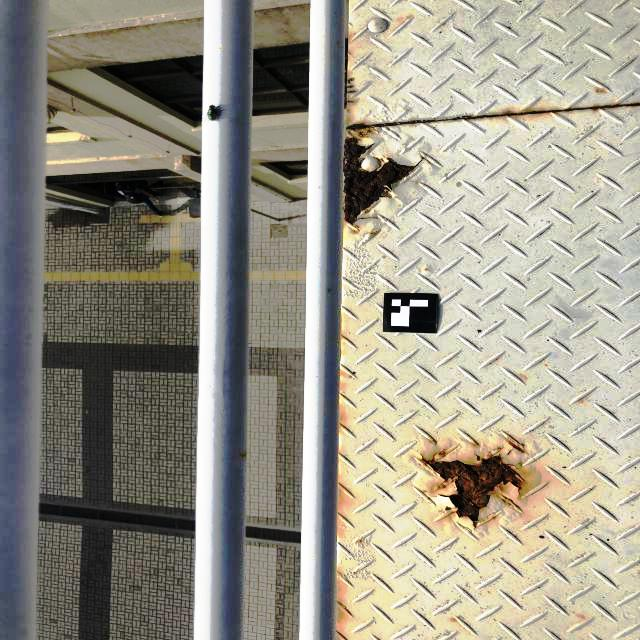Corrosion: (414, 432, 525, 530), (344, 122, 429, 236), (472, 100, 640, 120), (336, 568, 344, 640), (337, 470, 345, 538), (346, 71, 356, 124), (368, 228, 379, 237), (428, 438, 437, 446), (358, 540, 363, 545)
